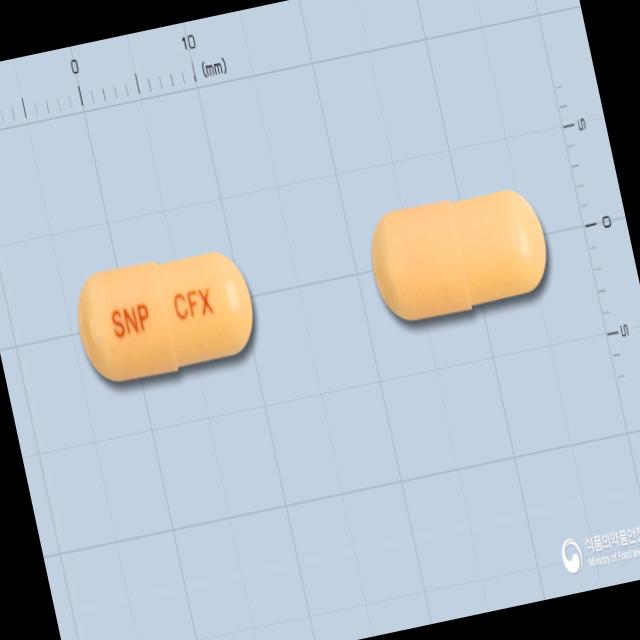A Progen Cefixime Cap: (66, 238, 264, 393)
